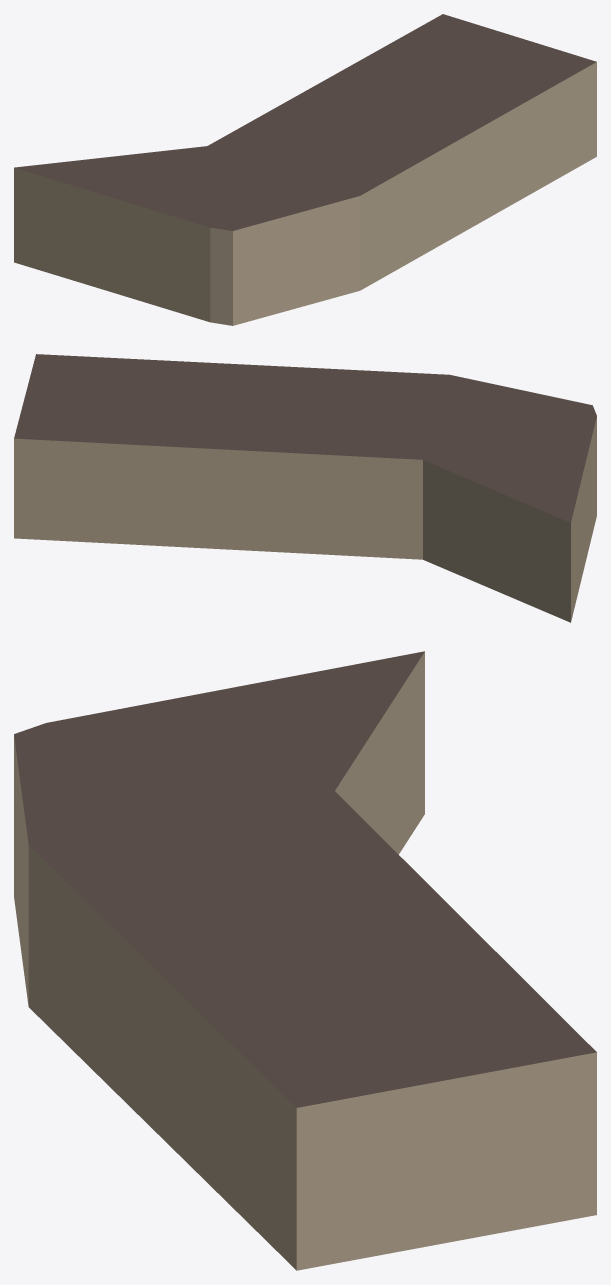
3 views of the same model, one above another, from view 1: azimuth 30°, elevation 25°; view 2: azimuth 150°, elevation 25°; view 3: azimuth 270°, elevation 25° (orthographic). The views are drawn at different scales.
Parts seen in each view (by area): view 1: HP-w757502018; view 2: HP-w757502018; view 3: HP-w757502018.
Part boxes in pixels (x1,y1,x2,y2): HP-w757502018: (14, 14, 596, 325); HP-w757502018: (14, 354, 596, 622); HP-w757502018: (14, 651, 596, 1270).
Size of the model in its own units: 54.16 by 9 by 29.22.
